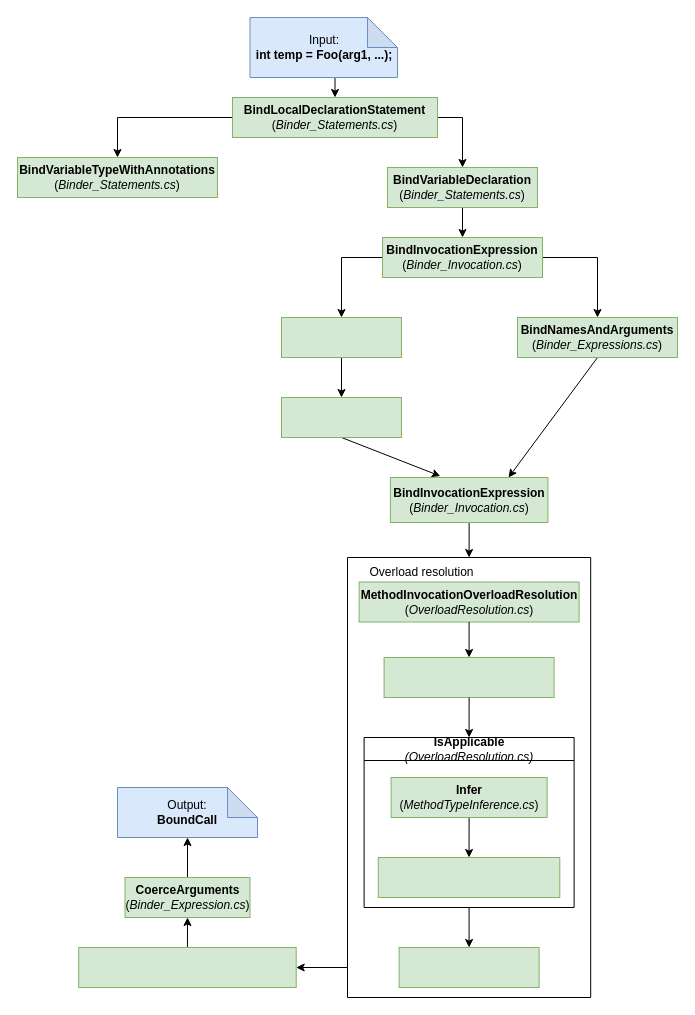
Some shapes in this 695 by 1015 pixel diagram are drawn without their labels. The shapes that lost their labels are listed below. From the top down, each one's box as (x1, y1, x2, y2) in pixels, then its label:
(280, 316, 402, 358): BoundMethodGroup ( Binder_invocation.cs )
(280, 396, 402, 438): BindTypeArguments ( Binder_Symbols.cs )
(383, 656, 554, 698): AddMemberToCandidateSet ( OverloadResolution.cs )
(377, 856, 560, 898): CheckArgumentForApplicability ( OverloadResolutions.cs )
(78, 946, 296, 988): BindInvocationExpressionContinued ( Binder_Invocation.cs )
(398, 946, 539, 988): Choose best candidate ( OverloadResolution.cs )
